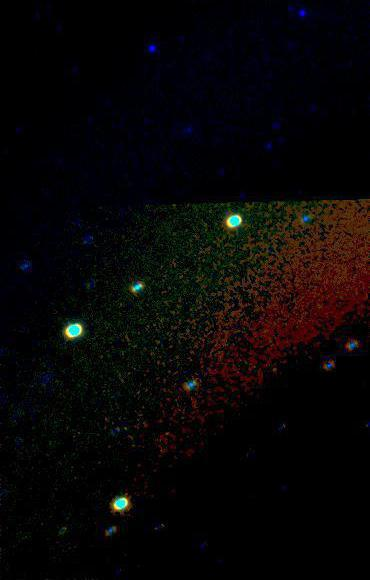star: (259, 354, 289, 384)
